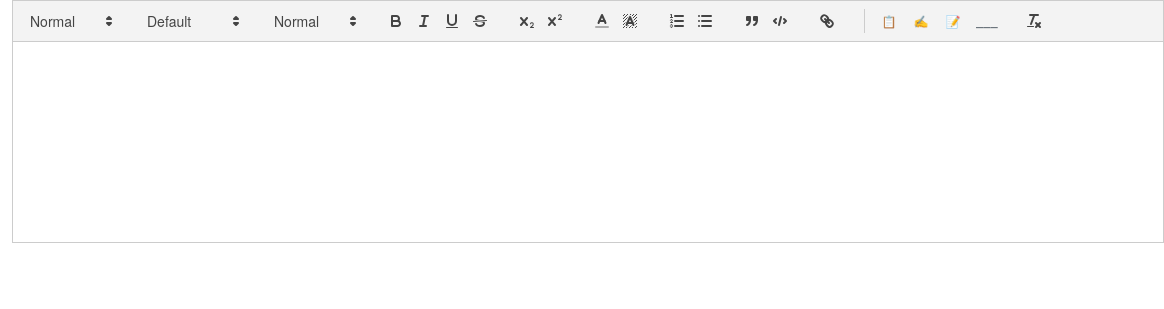
Test: QuillEditor TDD - RED Phase (Expecting Failures) › 🔴 Placeholder Insertion Failures › should handle placeholder insertion at invalid positions
Note: Try to insert placeholder in read-only editor
Click the button with test id "insert-long-response" at {"x": 953, "y": 21}, box [939,9,967,33]
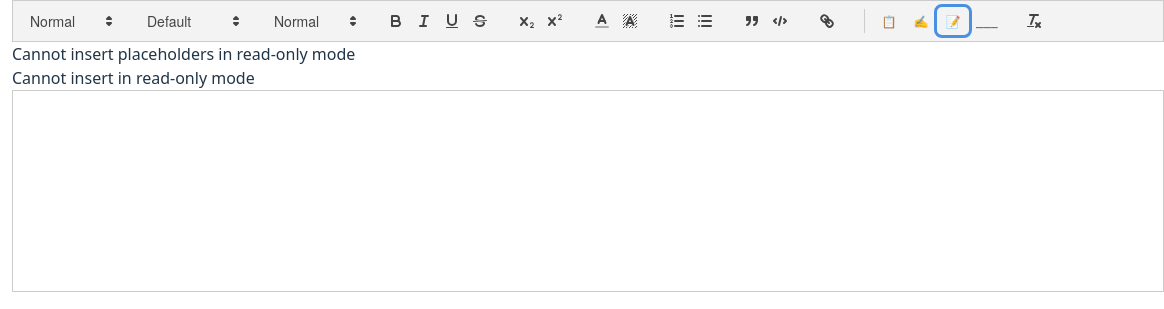
Now the text "Cannot insert in read-only mode" is shown, box [12,67,255,89]
